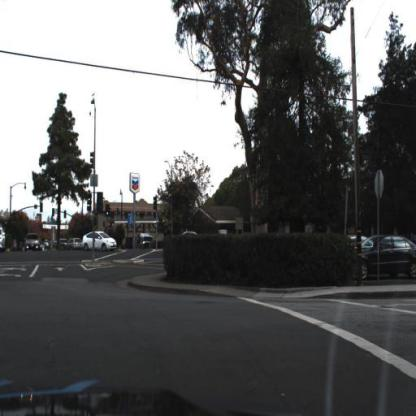car: (354, 233, 416, 282), (344, 234, 380, 261), (81, 229, 119, 254), (83, 231, 119, 254), (24, 231, 44, 254)
